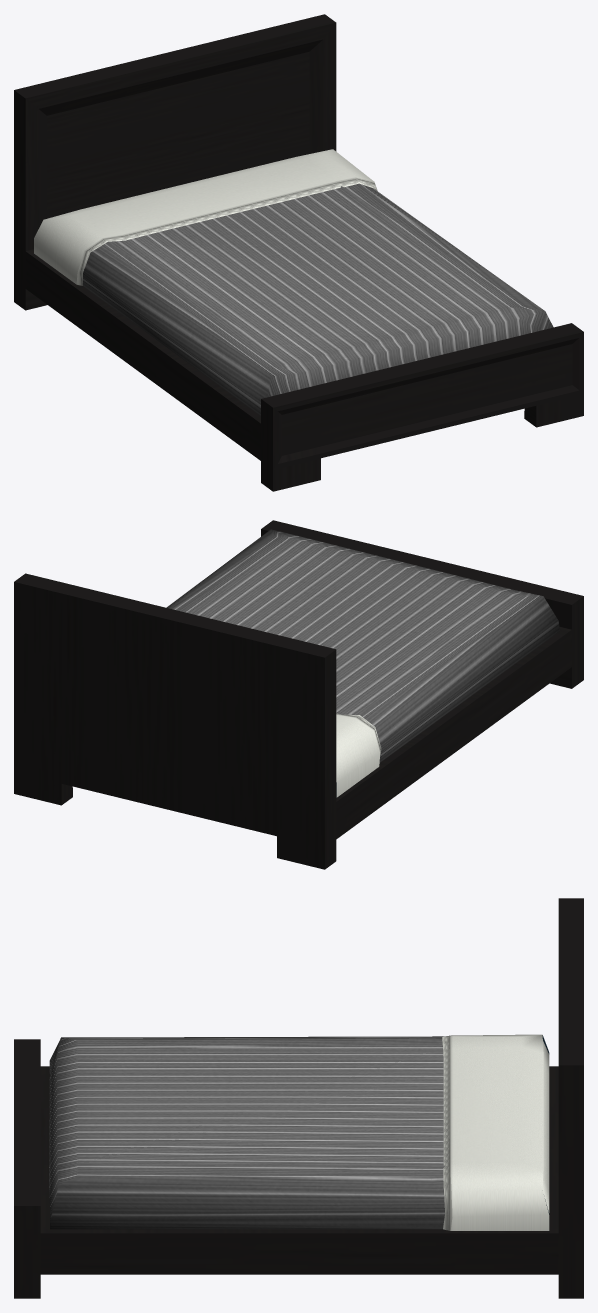
Rendered from Bed_G_3.FBX.
3 renders of one model, top to bottom at view 1: azimuth 30°, elevation 25°; view 2: azimuth 150°, elevation 25°; view 3: azimuth 270°, elevation 25°, orthographic. The views are drawn at different scales.
Visible parts, largest first — view 1: Bed; view 2: Bed; view 3: Bed.
Part boxes in pixels (x1,y1,x2,y2): Bed: [14, 14, 583, 491]; Bed: [14, 520, 583, 869]; Bed: [14, 898, 583, 1298].
Size of the model in its own units: 397 by 259 by 573.
